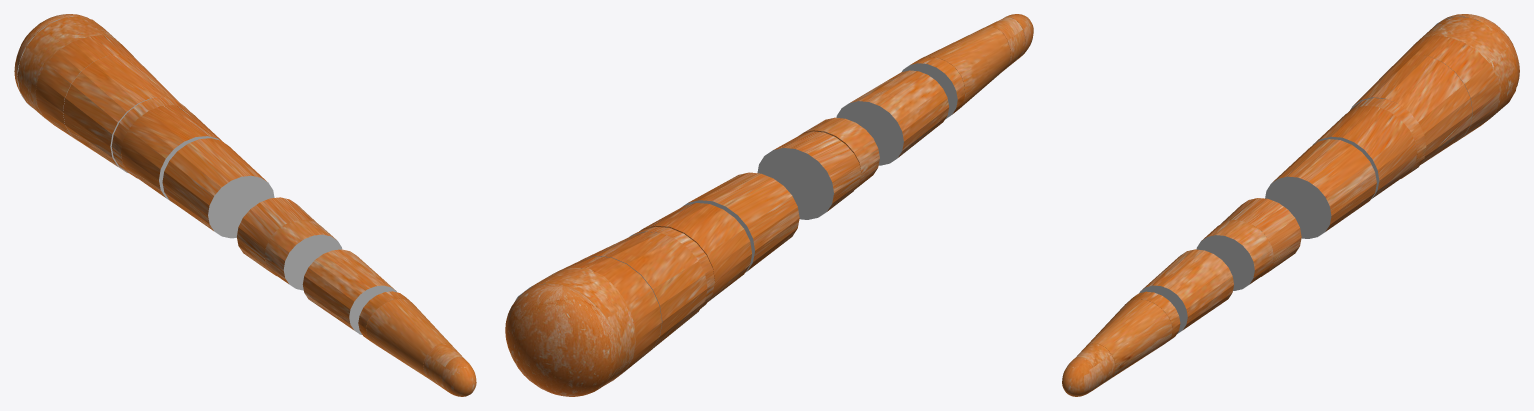
Rendered from CarrotCuts.fbx.
3 views of the same model, side by side, from view 1: azimuth 30°, elevation 25°; view 2: azimuth 150°, elevation 25°; view 3: azimuth 330°, elevation 25° (orthographic). The views are drawn at different scales.
Parts seen in each view (by area): view 1: polySurface59, polySurface46, polySurface60, polySurface53, polySurface47, polySurface50, polySurface58, polySurface61; view 2: polySurface61, polySurface47, polySurface46, polySurface58, polySurface53, polySurface60, polySurface50, polySurface59; view 3: polySurface59, polySurface46, polySurface53, polySurface60, polySurface47, polySurface50, polySurface58, polySurface61.
Boxes of the visible parts, box(x1,y1,x2,y2) form: polySurface59: box(162, 138, 274, 238); polySurface46: box(17, 16, 141, 142); polySurface60: box(63, 55, 179, 173); polySurface53: box(358, 291, 476, 396); polySurface47: box(237, 197, 342, 290); polySurface50: box(111, 97, 223, 202); polySurface58: box(302, 249, 397, 334); polySurface61: box(14, 14, 89, 107); polySurface61: box(505, 283, 616, 396); polySurface47: box(757, 117, 879, 219); polySurface46: box(515, 256, 661, 386); polySurface58: box(836, 70, 948, 165); polySurface53: box(901, 14, 1033, 119); polySurface60: box(580, 232, 707, 348); polySurface50: box(629, 203, 752, 308); polySurface59: box(681, 172, 799, 272); polySurface59: box(1265, 139, 1376, 238); polySurface46: box(1394, 16, 1517, 142); polySurface53: box(1062, 291, 1180, 396); polySurface60: box(1350, 55, 1472, 164); polySurface47: box(1196, 198, 1301, 290); polySurface50: box(1312, 98, 1426, 199); polySurface58: box(1139, 249, 1233, 333); polySurface61: box(1434, 14, 1519, 87).
Size of the model in its own units: 1.28 by 1.25 by 9.81.
